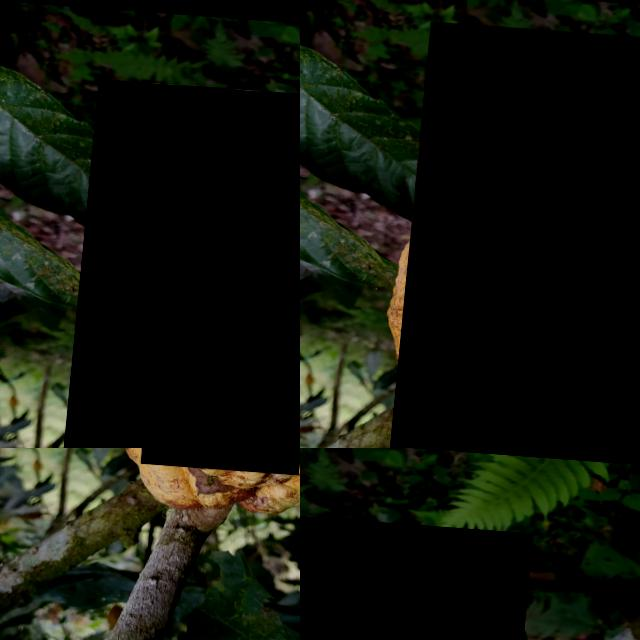Sana: (397, 19, 640, 448), (71, 76, 300, 448), (300, 507, 534, 640)
